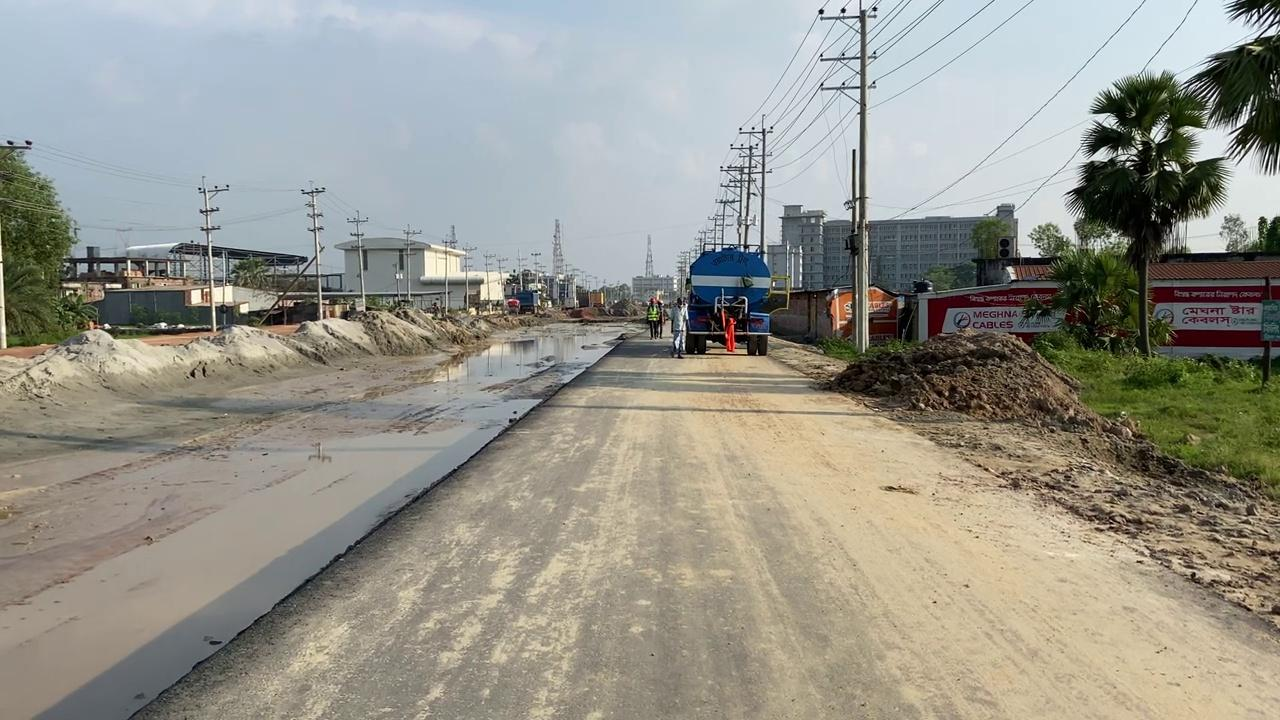Garbage: (822, 326, 1088, 426)
Pole: (818, 1, 878, 353), (301, 181, 325, 319)
Sidewalk: (1, 317, 641, 718)
Traffic-sign: (1061, 67, 1232, 357), (0, 143, 85, 347), (1181, 0, 1279, 176)
Tree: (679, 244, 787, 354), (505, 289, 539, 315)
